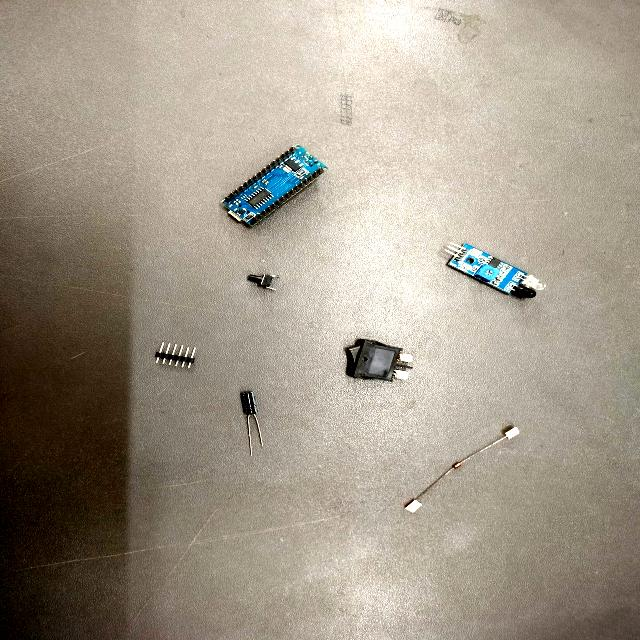capacitor: (240, 391, 255, 416)
